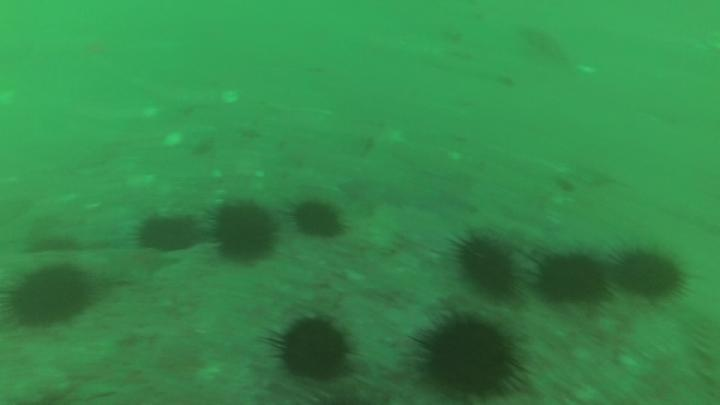echinus: (427, 323, 513, 399), (11, 268, 89, 327), (280, 320, 347, 380), (535, 253, 608, 307), (214, 206, 277, 264), (458, 239, 517, 299), (620, 252, 683, 299), (143, 213, 193, 252), (295, 203, 341, 240)
